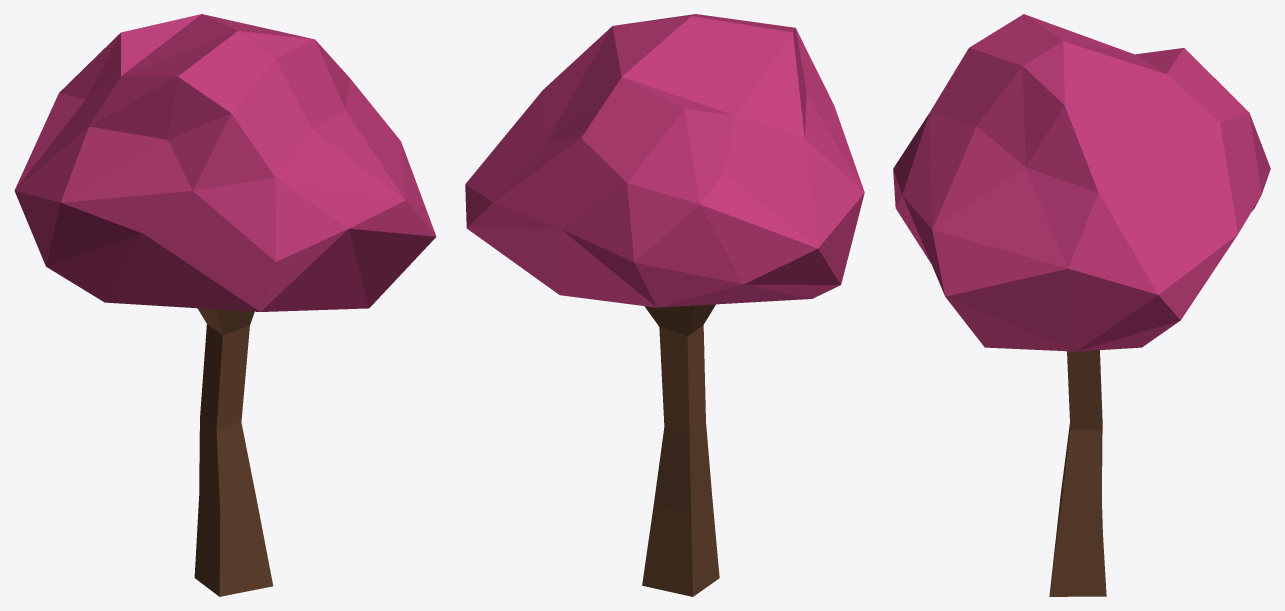
Rendered from Tree_28_Pink.fbx.
3 renders of one model, left to right at view 1: azimuth 30°, elevation 25°; view 2: azimuth 150°, elevation 25°; view 3: azimuth 270°, elevation 25°, orthographic. The views are drawn at different scales.
Parts seen in each view (by area): view 1: Tree_28_Pink_Part_1, Tree_28_Pink_Part_2; view 2: Tree_28_Pink_Part_1, Tree_28_Pink_Part_2; view 3: Tree_28_Pink_Part_1, Tree_28_Pink_Part_2.
Boxes of the visible parts, left/top/right/bottom form: Tree_28_Pink_Part_1: left=14, top=14, right=436, bottom=311; Tree_28_Pink_Part_2: left=194, top=308, right=273, bottom=596; Tree_28_Pink_Part_1: left=465, top=14, right=864, bottom=307; Tree_28_Pink_Part_2: left=642, top=304, right=719, bottom=596; Tree_28_Pink_Part_1: left=893, top=14, right=1270, bottom=351; Tree_28_Pink_Part_2: left=1049, top=350, right=1106, bottom=596.
Size of the model in its own units: 529 by 802 by 506.
